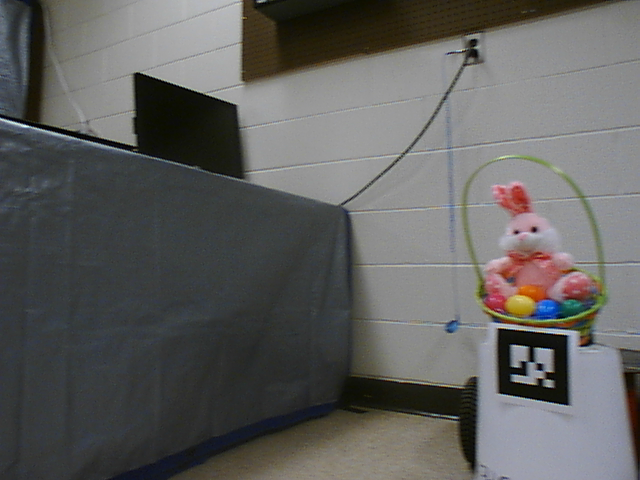bunny: (457, 151, 610, 342)
